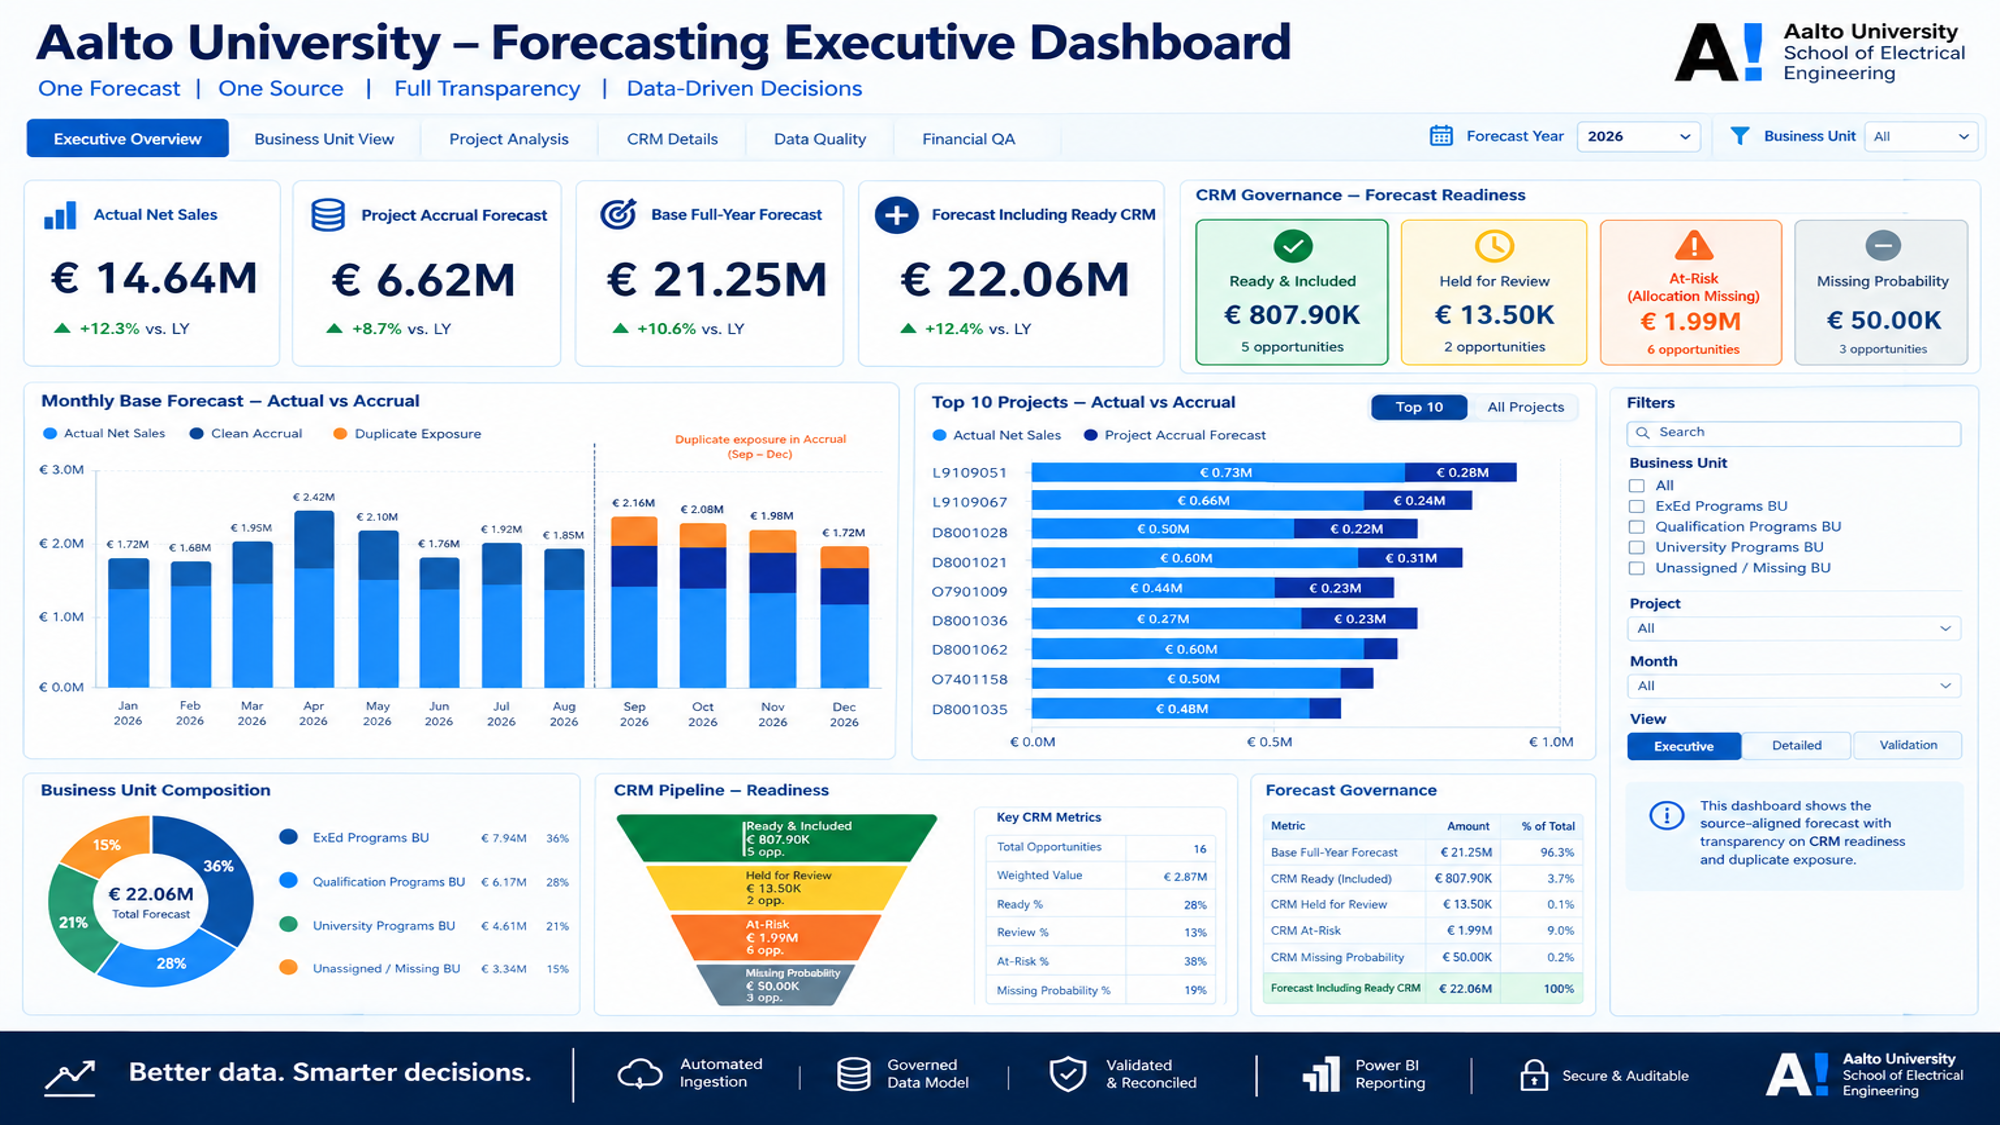

The page's visual inventory and layout, read from the dashboard file:
{"tool":"powerbi","page":{"name":"Executive Dashboard","canvas":[1280,720],"ordinal":3},"visuals":[{"type":"cardVisual","fields":{"Data":["DimDate.Actual Net Sales","DimDate.Project Accrual Forecast","DimDate.Base Full-Year Forecast","DimBusinessUnit.Forecast Including Ready CRM"]},"box":[12.4,42.1,1256.1,106.3],"z":0},{"type":"cardVisual","fields":{"Data":["DimBusinessUnit.CRM Ready Current-Year Value","DimBusinessUnit.CRM Review Current-Year Value","DimBusinessUnit.CRM At-Risk Weighted Pipeline","DimBusinessUnit.CRM Missing Probability Estimated Value"]},"box":[12.4,148.4,1255.1,105.3],"z":1000},{"type":"slicer","fields":{"Values":["DimBusinessUnit.BusinessUnitName"]},"box":[12.4,264.2,234.6,151.3],"z":2000},{"type":"columnChart","title":"Monthly Base Forecast – Actual vs Accrual","fields":{"Category":["DimDate.MonthName"],"Y":["DimDate.Actual Net Sales","DimDate.Project Accrual Forecast"]},"box":[481.6,420.3,365.7,298.7],"z":3000},{"type":"barChart","title":"Base Forecast by Business Unit – Actual vs Remaining Accrual","fields":{"Category":["DimBusinessUnit.BusinessUnitName"],"Y":["DimDate.Actual Net Sales","DimDate.Project Accrual Forecast"]},"box":[13.4,420.3,468.2,298.7],"z":4000},{"type":"tableEx","title":"Forecast Governance – Included vs At Risk","fields":{"Values":["DimForecastBucket.ForecastBucket","DimBusinessUnit.Forecast Bucket Amount","DimBusinessUnit.Forecast Bucket Treatment"]},"box":[647.2,253.7,601.2,137.9],"z":5000},{"type":"barChart","title":"Top 10 Projects – Actual vs Accrual","fields":{"Category":["DimProject.ProjectID"],"Y":["DimDate.Actual Net Sales","DimDate.Project Accrual Forecast"]},"box":[855.9,412.6,424.1,306.4],"z":6000},{"type":"textbox","box":[471,8.6,429.9,33.5],"z":7000}]}

Visuals, with their boxes in screenshot pixels (x1, y1, x2, y2), scaled from the page's 1280x720 canvas onto the 2000x1125 screenshot:
cardVisual - DimDate.Actual Net Sales x DimDate.Project Accrual Forecast: [left=19, top=66, right=1982, bottom=232]
cardVisual - DimBusinessUnit.CRM Ready Current-Year Value x DimBusinessUnit.CRM Review Current-Year Value: [left=19, top=232, right=1980, bottom=396]
slicer - DimBusinessUnit.BusinessUnitName: [left=19, top=413, right=386, bottom=649]
"Monthly Base Forecast – Actual vs Accrual" columnChart: [left=752, top=657, right=1324, bottom=1123]
"Base Forecast by Business Unit – Actual vs Remaining Accrual" barChart: [left=21, top=657, right=752, bottom=1123]
"Forecast Governance – Included vs At Risk" tableEx: [left=1011, top=396, right=1951, bottom=612]
"Top 10 Projects – Actual vs Accrual" barChart: [left=1337, top=645, right=1999, bottom=1123]
textbox: [left=736, top=13, right=1408, bottom=66]
